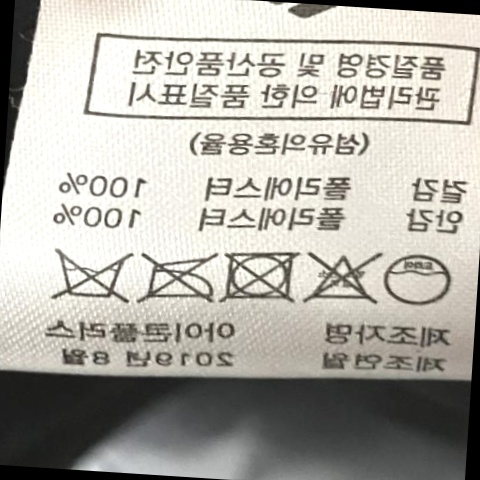DN_bleach: (306, 249, 374, 311)
DN_iron: (138, 249, 220, 308)
DN_tumble_dry: (221, 244, 297, 307)
DN_wash: (47, 241, 133, 307)
dry_clean: (382, 250, 453, 314)
